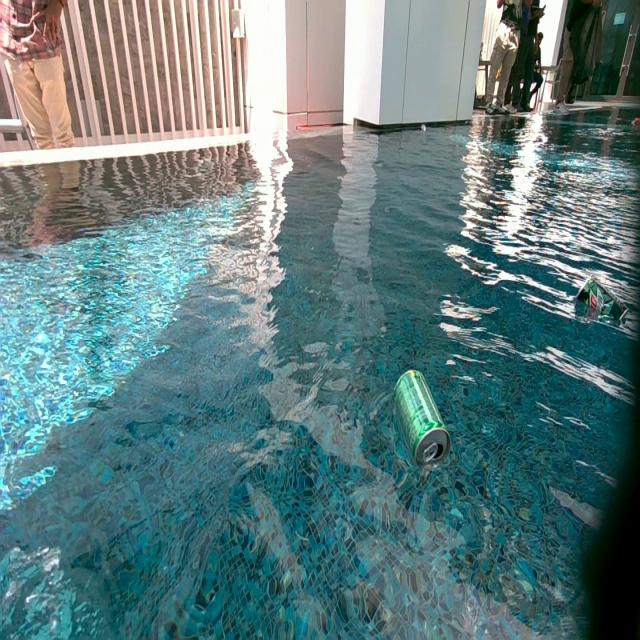Cans: (394, 370, 455, 472), (572, 274, 629, 333), (633, 116, 639, 125), (421, 125, 427, 132)
